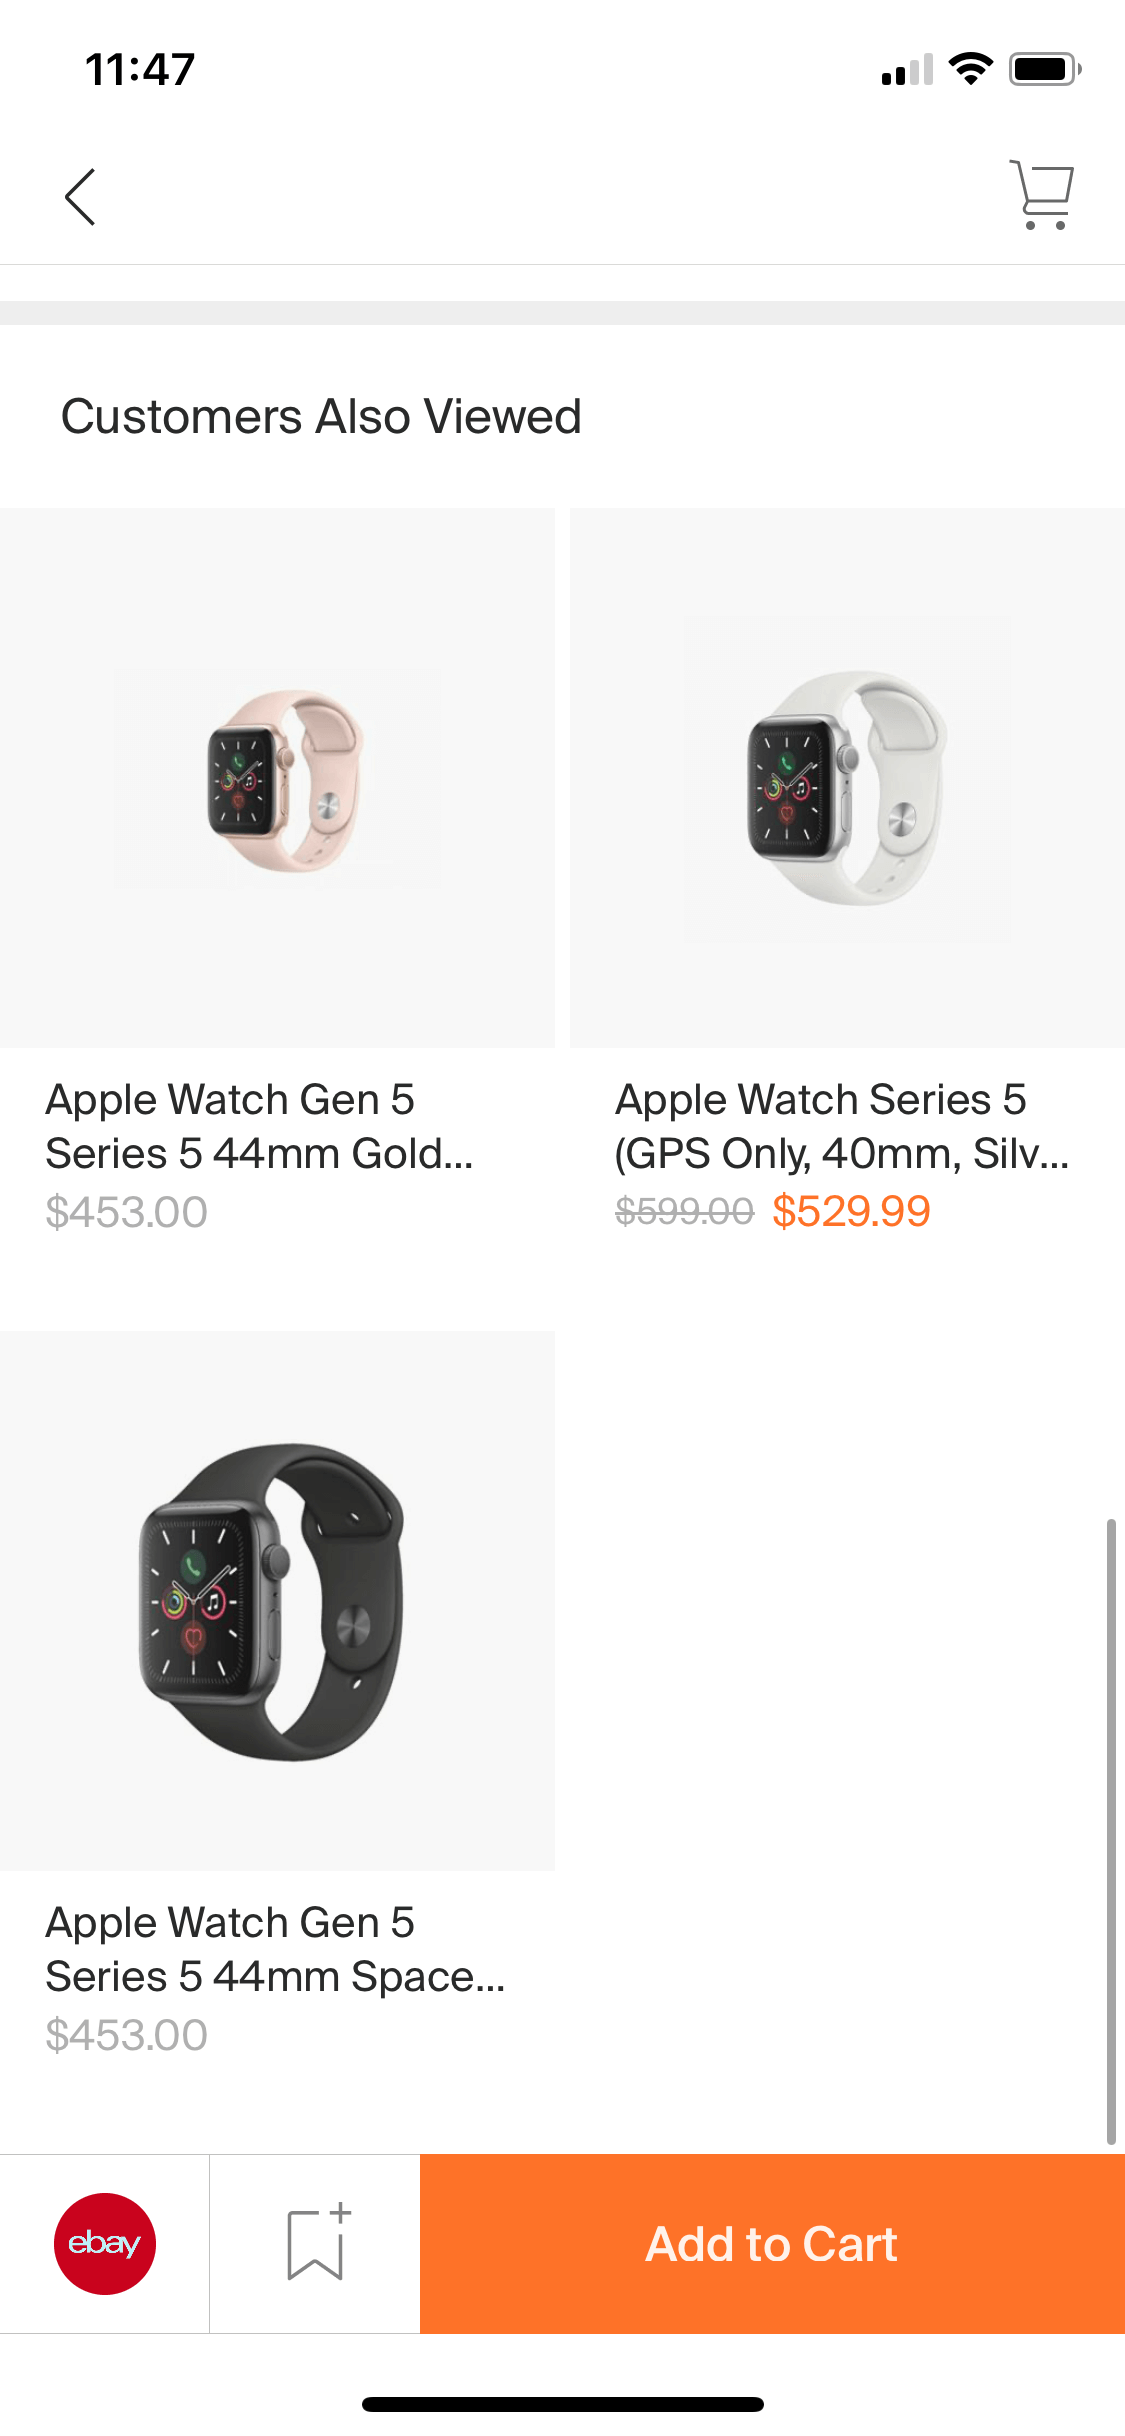Buttons: (406, 2138, 1125, 2349), (241, 2167, 385, 2316), (973, 126, 1120, 264), (9, 130, 151, 269)
